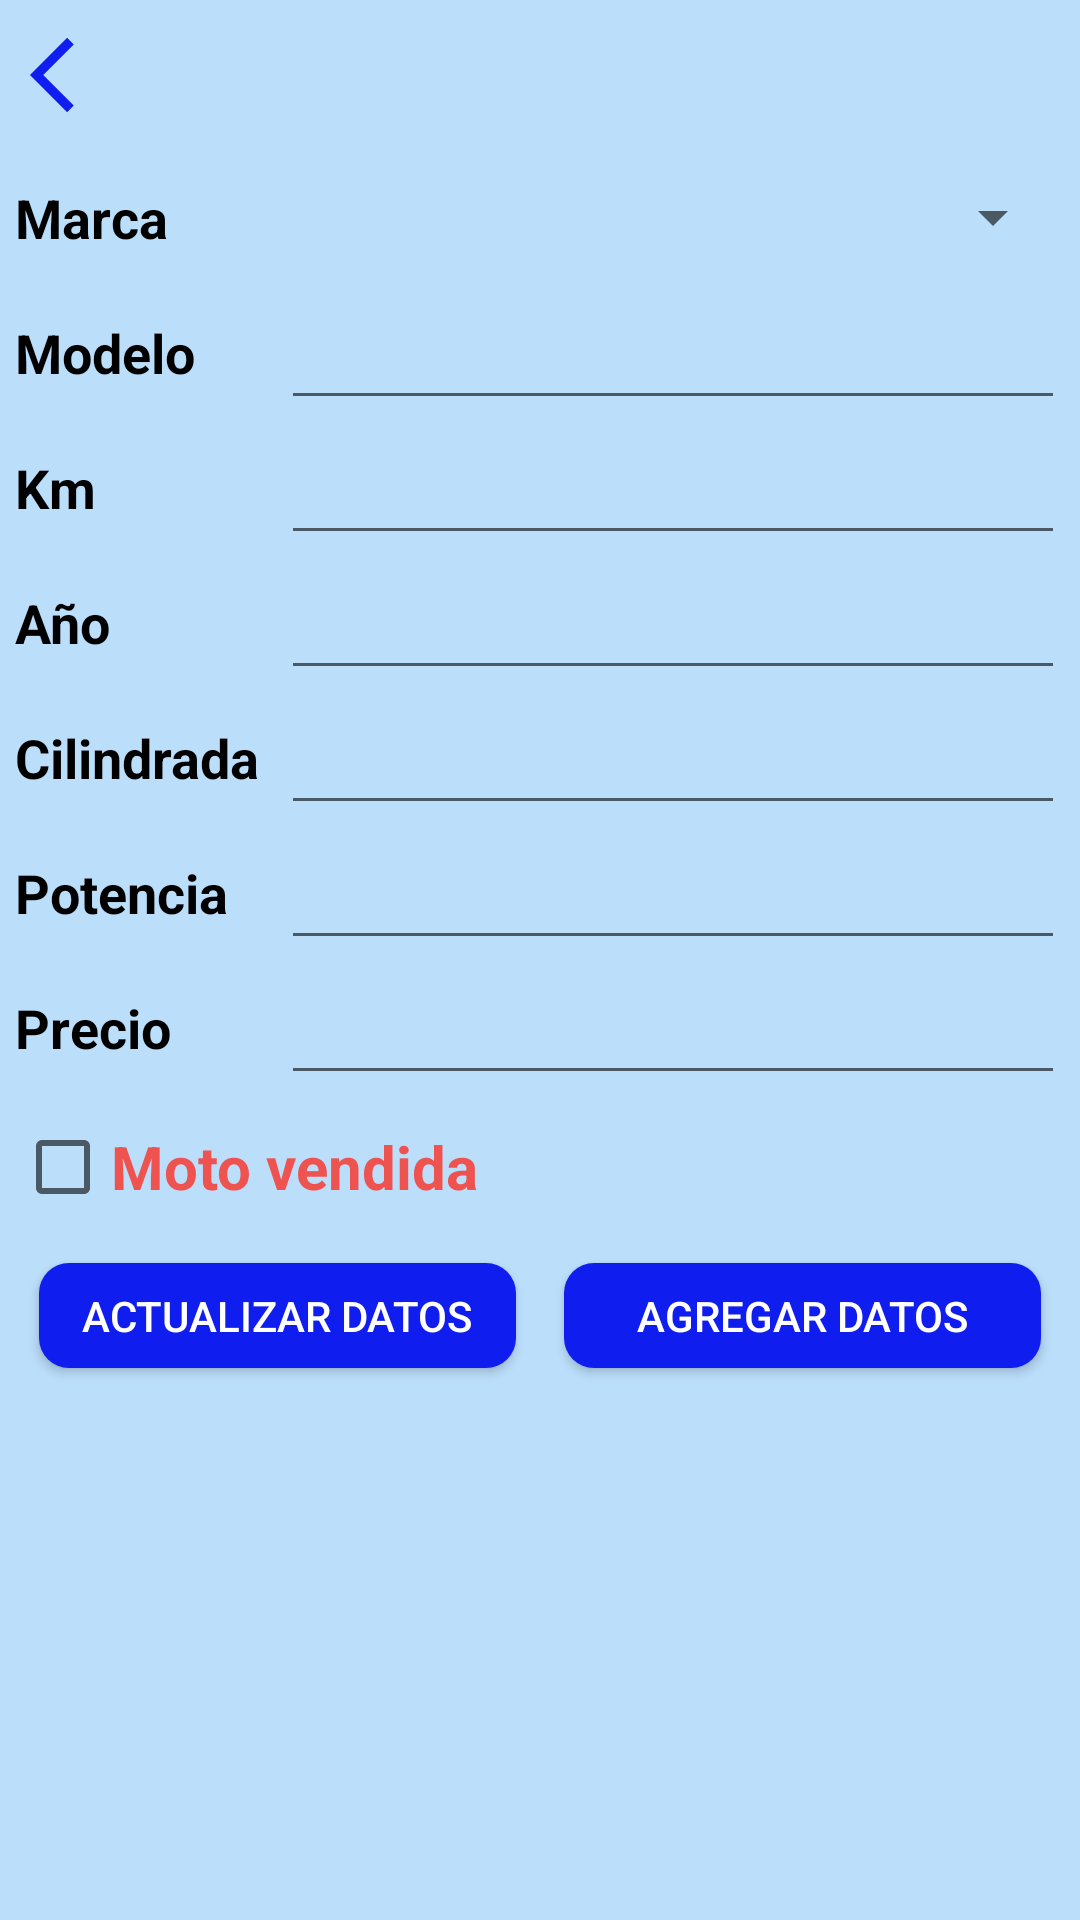

Locate icon controls on the screen. Image size 1080*1920, boxes as (x1, y1, x2, y2).
back: (30, 38, 74, 112)
